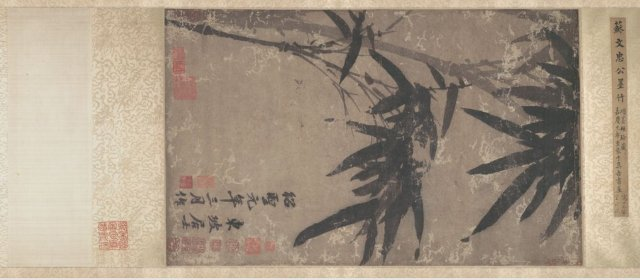bamboo: (177, 10, 583, 160), (301, 161, 582, 269)
